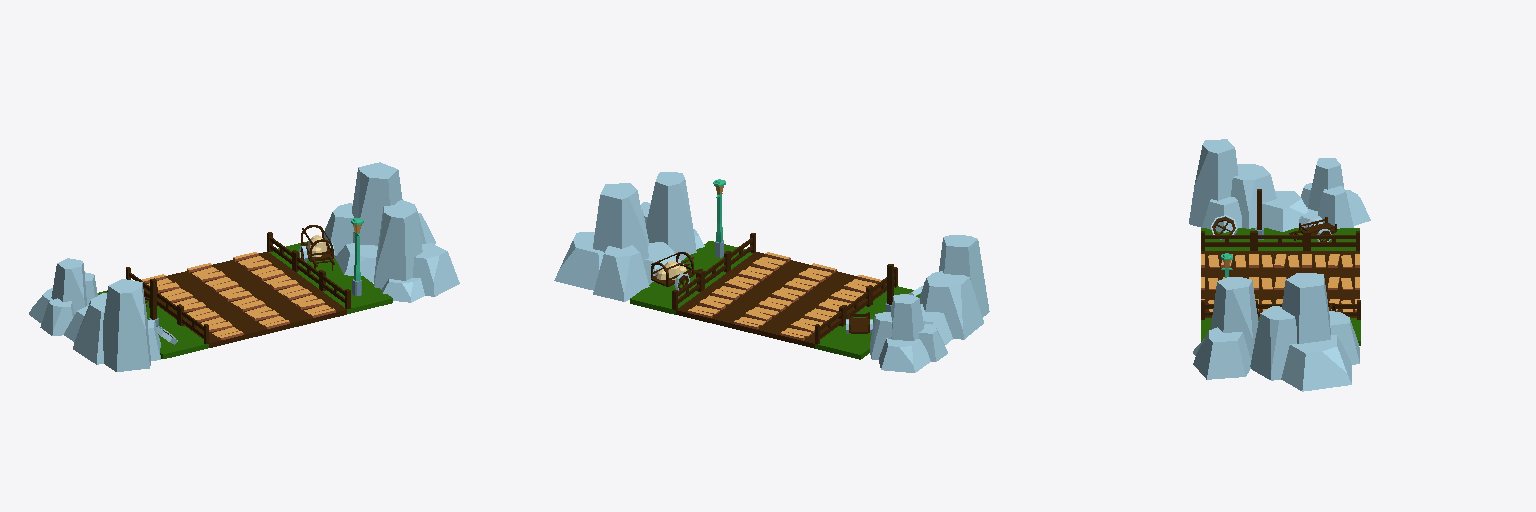
Rendered from NaturesGuardian.obj.
The picture shows the model from 3 angles: view 1: azimuth 30°, elevation 25°; view 2: azimuth 150°, elevation 25°; view 3: azimuth 270°, elevation 25°; orthographic projection.
Visible parts, largest first — view 1: mergedBlocks; view 2: mergedBlocks; view 3: mergedBlocks.
Part boxes in pixels (bbox=[...]): mergedBlocks: bbox=[29, 162, 459, 371]; mergedBlocks: bbox=[554, 172, 989, 372]; mergedBlocks: bbox=[1189, 139, 1370, 391].
Bounding box in the file's own units: 8.32 × 1.74 × 3.43.